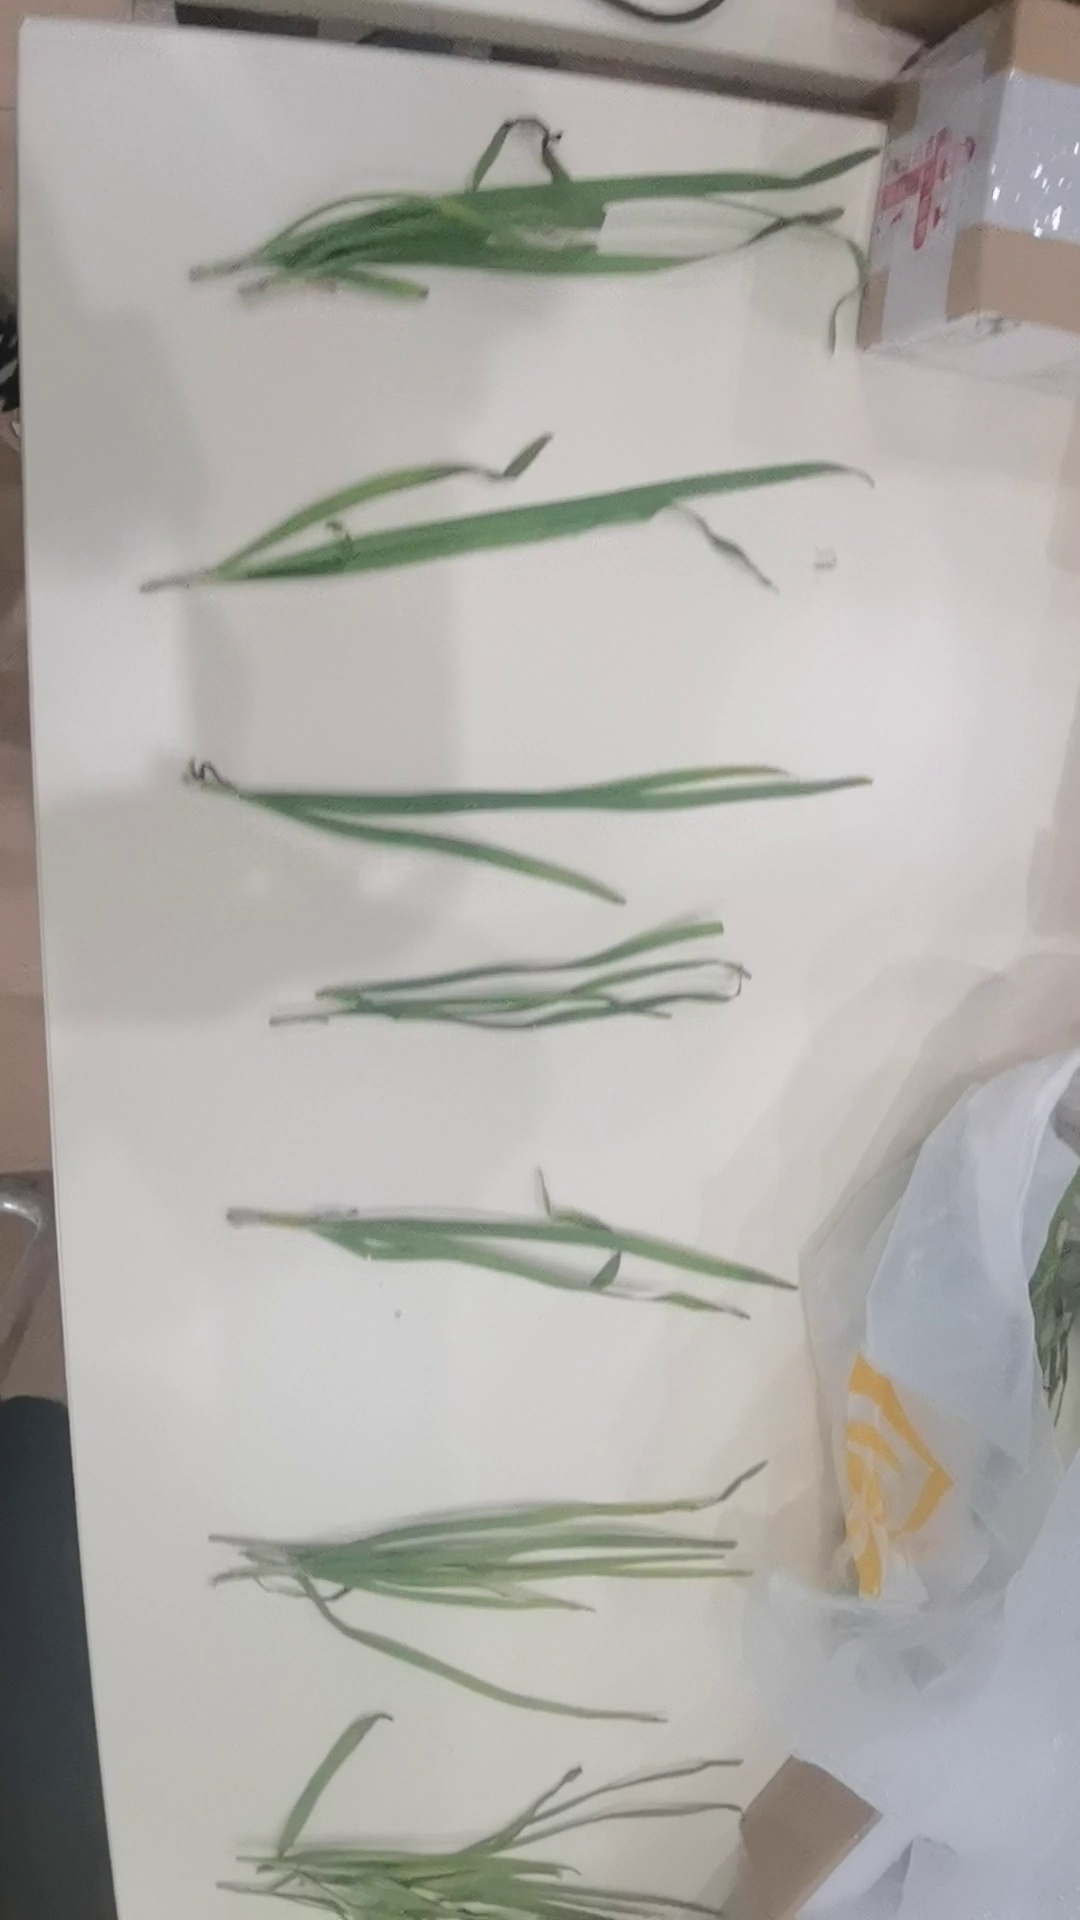chives: (71, 688, 949, 909), (189, 74, 884, 338), (165, 1482, 866, 1709), (109, 443, 967, 617), (189, 1149, 855, 1358), (225, 1713, 820, 1920), (193, 915, 853, 1062)
